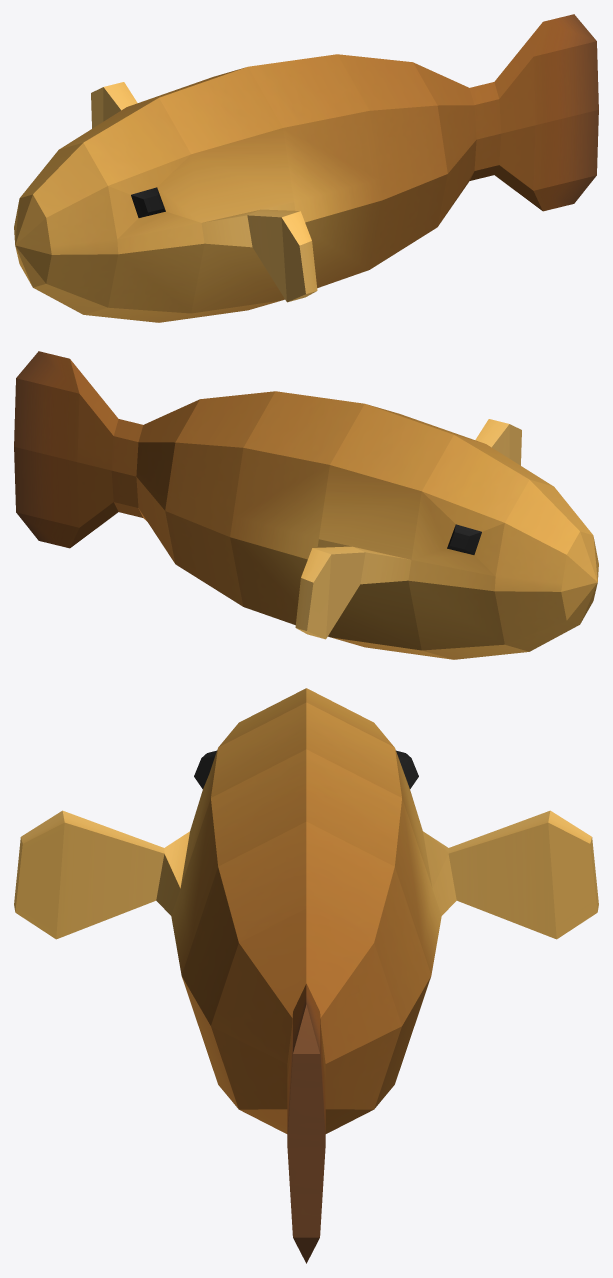
File: SM_fish.fbx
3 views of the same model, one above another, from view 1: azimuth 30°, elevation 25°; view 2: azimuth 150°, elevation 25°; view 3: azimuth 270°, elevation 25° (orthographic). The views are drawn at different scales.
Parts seen in each view (by area): view 1: fish; view 2: fish; view 3: fish.
Boxes of the visible parts, x1,y1,x2,y2 form: fish: [14, 14, 598, 322]; fish: [14, 351, 598, 659]; fish: [14, 688, 598, 1263].
Bounding box in the file's own units: 248 × 100 × 159.
